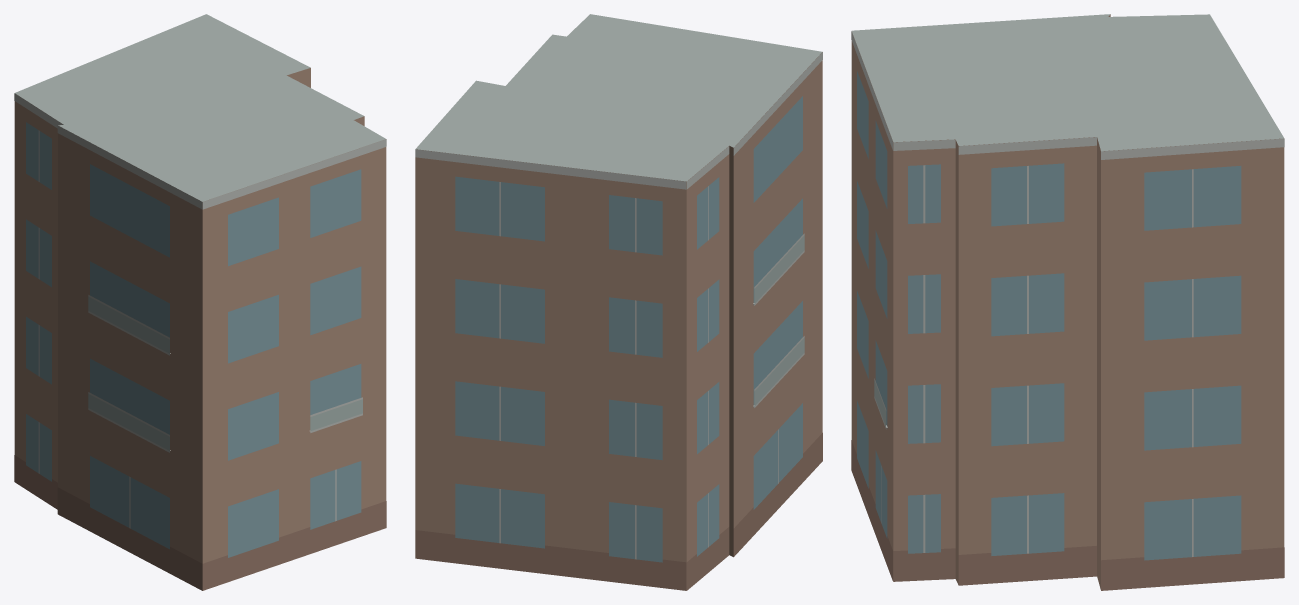
The model's file is survey-upis-32517483.glb.
The picture shows the model from 3 angles, left to right: view 1: azimuth 30°, elevation 25°; view 2: azimuth 150°, elevation 25°; view 3: azimuth 270°, elevation 25°; orthographic projection. The views are drawn at different scales.
Visible parts, largest first — view 1: survey-upis-32517483.tmp; view 2: survey-upis-32517483.tmp; view 3: survey-upis-32517483.tmp.
Part boxes in pixels (x1,y1,x2,y2): survey-upis-32517483.tmp: (14, 14, 386, 590); survey-upis-32517483.tmp: (415, 14, 822, 590); survey-upis-32517483.tmp: (851, 14, 1284, 590).
Bounding box in the file's own units: 8.18 × 12.2 × 10.9.
